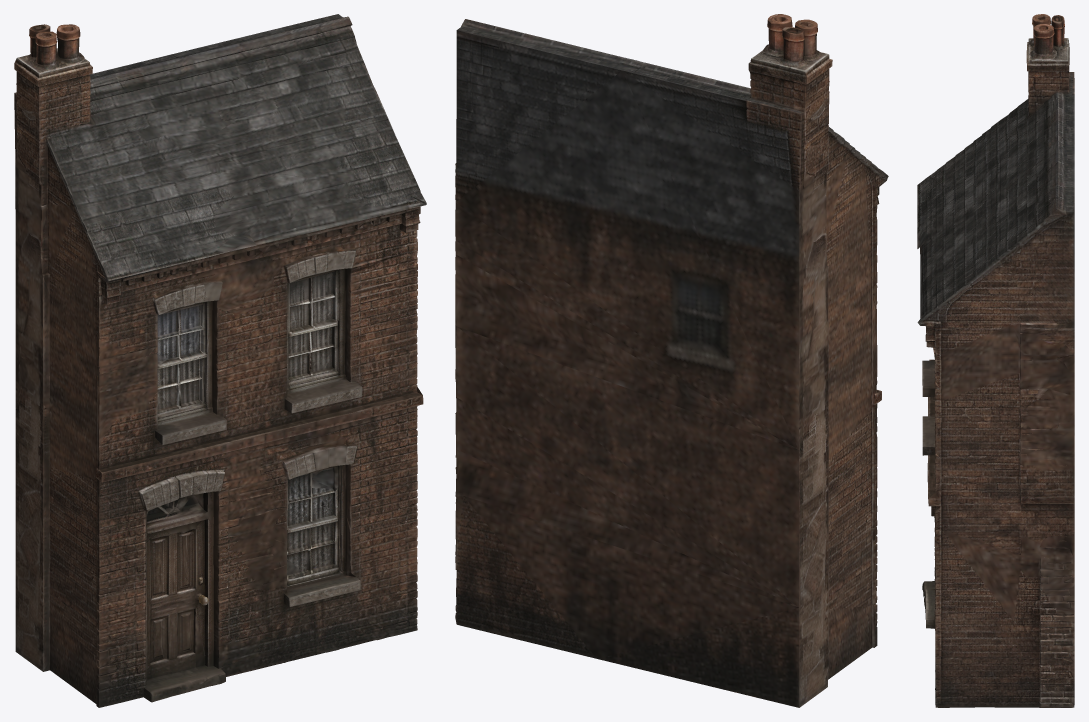
Rendered from SM_House_AR01b.glb.
The picture shows the model from 3 angles, left to right: view 1: azimuth 30°, elevation 25°; view 2: azimuth 150°, elevation 25°; view 3: azimuth 270°, elevation 25°; orthographic projection. The views are drawn at different scales.
Parts seen in each view (by area): view 1: Mesh_0; view 2: Mesh_0; view 3: Mesh_0.
Boxes of the visible parts, bbox=[...] form: Mesh_0: bbox=[14, 14, 426, 707]; Mesh_0: bbox=[455, 14, 888, 707]; Mesh_0: bbox=[917, 14, 1074, 707].
Size of the model in its own units: 1.05 by 1.9 by 0.4889.
Materials: 1 (1 with a texture image).
